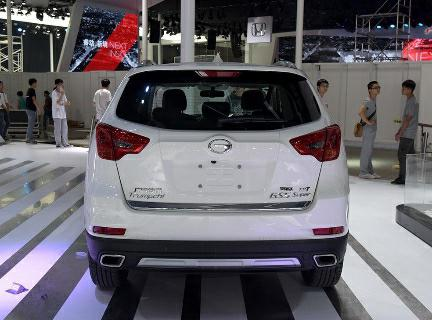广汽传祺-传祺GS5Super: (80, 65, 356, 293)
